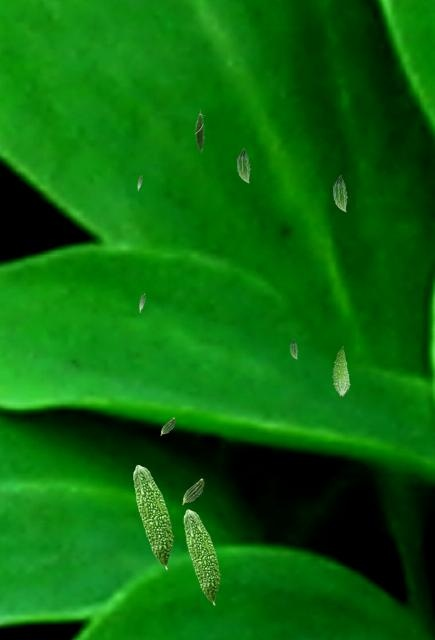ampalaya: (132, 464, 174, 570), (183, 509, 221, 606), (331, 345, 350, 397), (181, 478, 204, 505), (332, 174, 347, 212), (236, 147, 250, 183), (194, 109, 205, 153), (160, 417, 175, 436), (289, 338, 298, 359), (139, 293, 145, 312), (137, 175, 142, 191)
